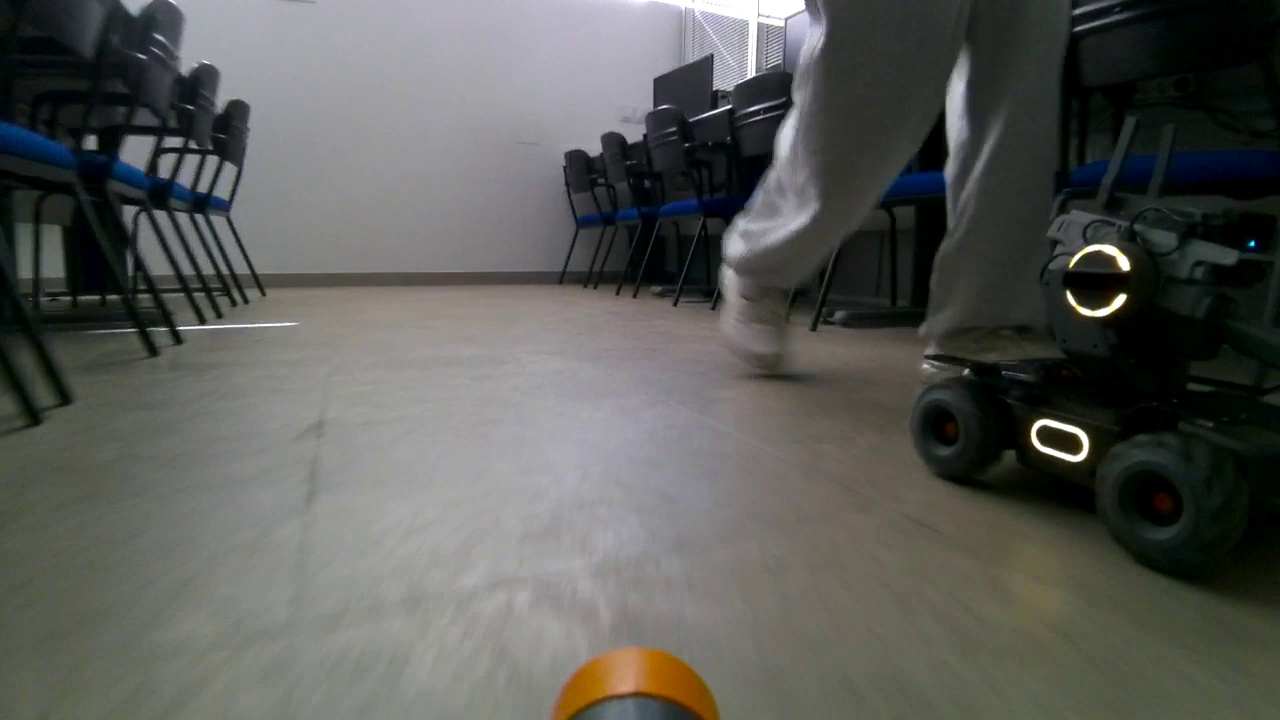robot: (916, 108, 1280, 590)
